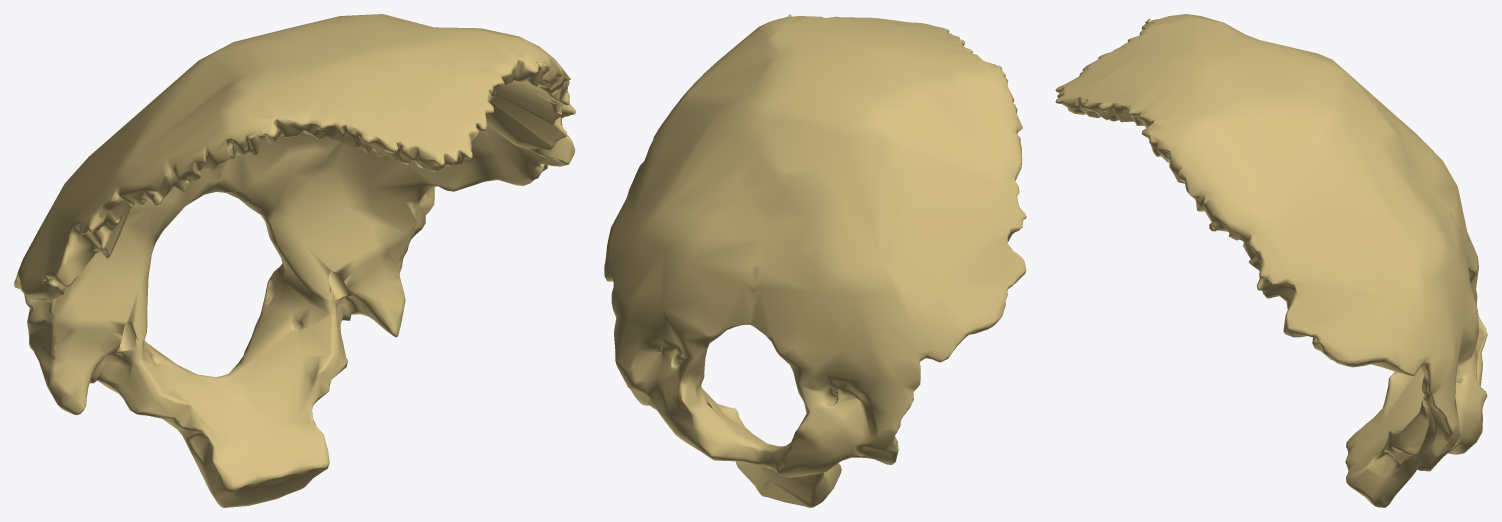
3 renders of one model, left to right at view 1: azimuth 30°, elevation 25°; view 2: azimuth 150°, elevation 25°; view 3: azimuth 270°, elevation 25°, orthographic. The views are drawn at different scales.
Parts seen in each view (by area): view 1: 枕骨; view 2: 枕骨; view 3: 枕骨.
Part boxes in pixels (box(x1,y1,x2,y2)): 枕骨: box(14, 14, 575, 507); 枕骨: box(604, 14, 1026, 507); 枕骨: box(1055, 14, 1487, 507).
Size of the model in its own units: 0.1757 by 0.1707 by 0.1539.
